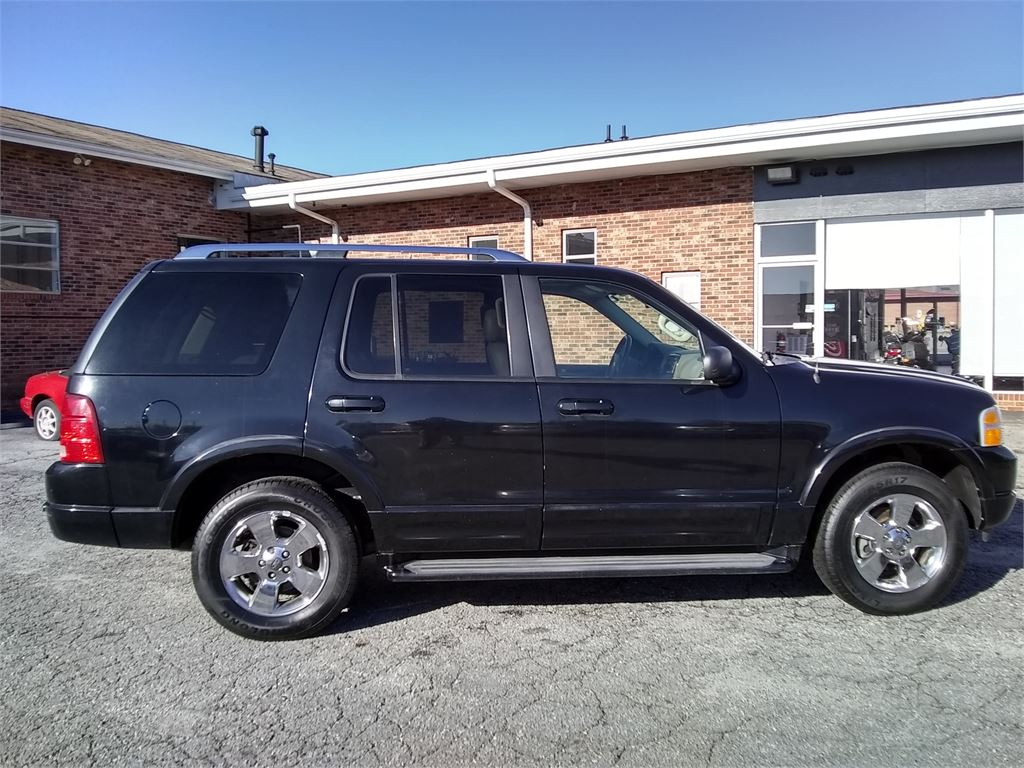Ford Explorer: (44, 247, 1017, 643)
